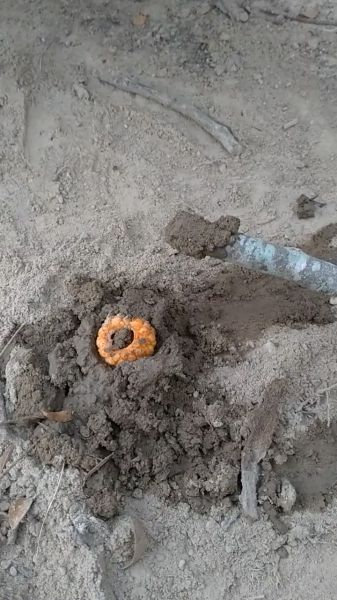eggs: (91, 308, 160, 374)
